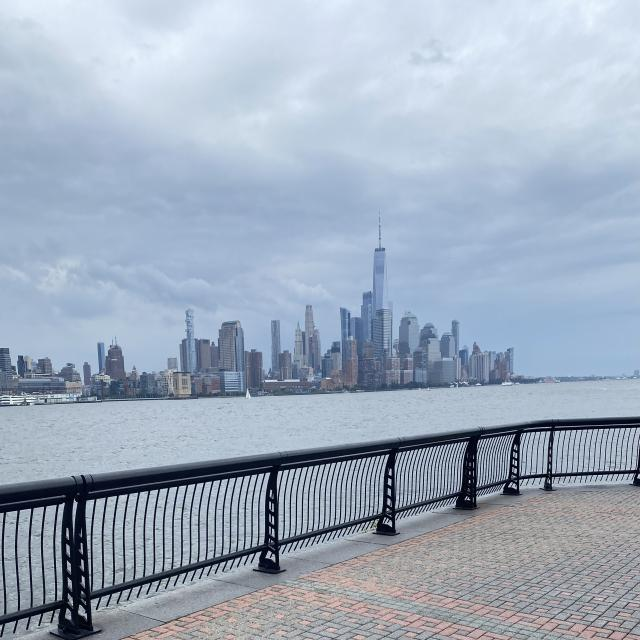WTC: (372, 211, 388, 309)
